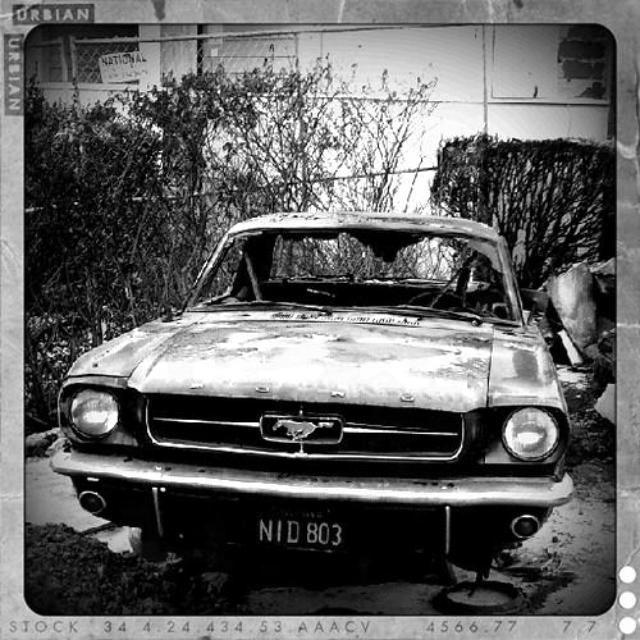Front-windscreen-damage: (217, 220, 490, 319)
